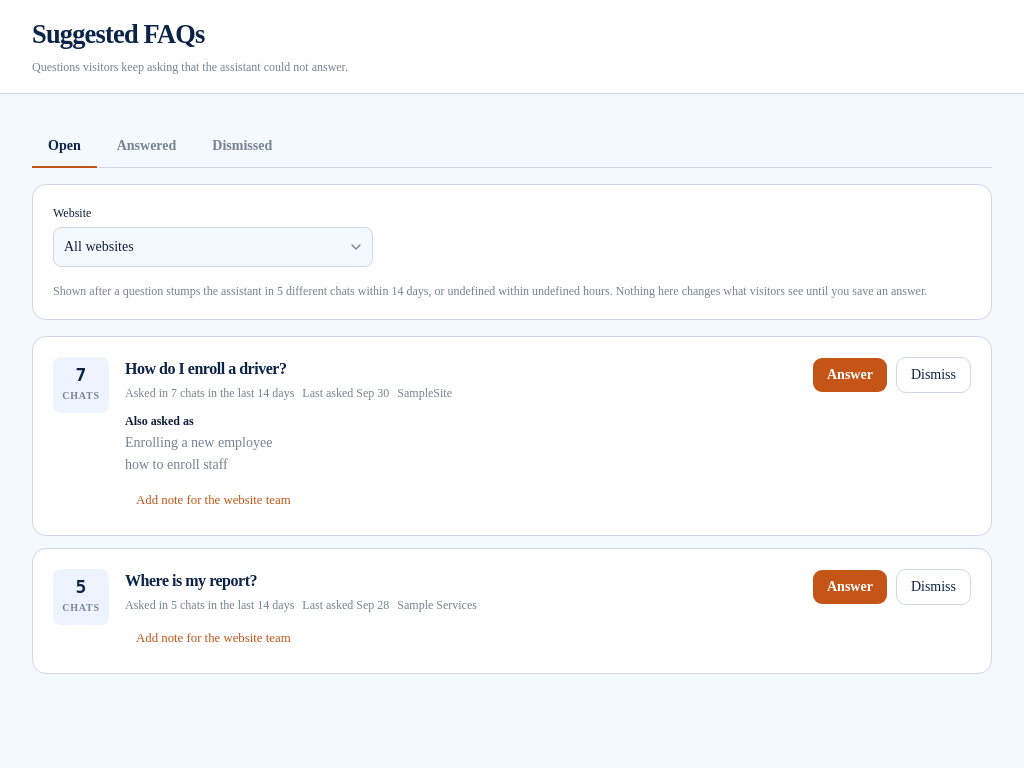
Test: suggested FAQs queue › choosing a website asks the server for that website only
This screenshot has width=1024, height=768.
Expected: the heading "Where is my report?" is shown, 125,569 -> 257,593
Click the dropdown labelled "website".
click(99, 246)  # box 53,227 -> 373,267
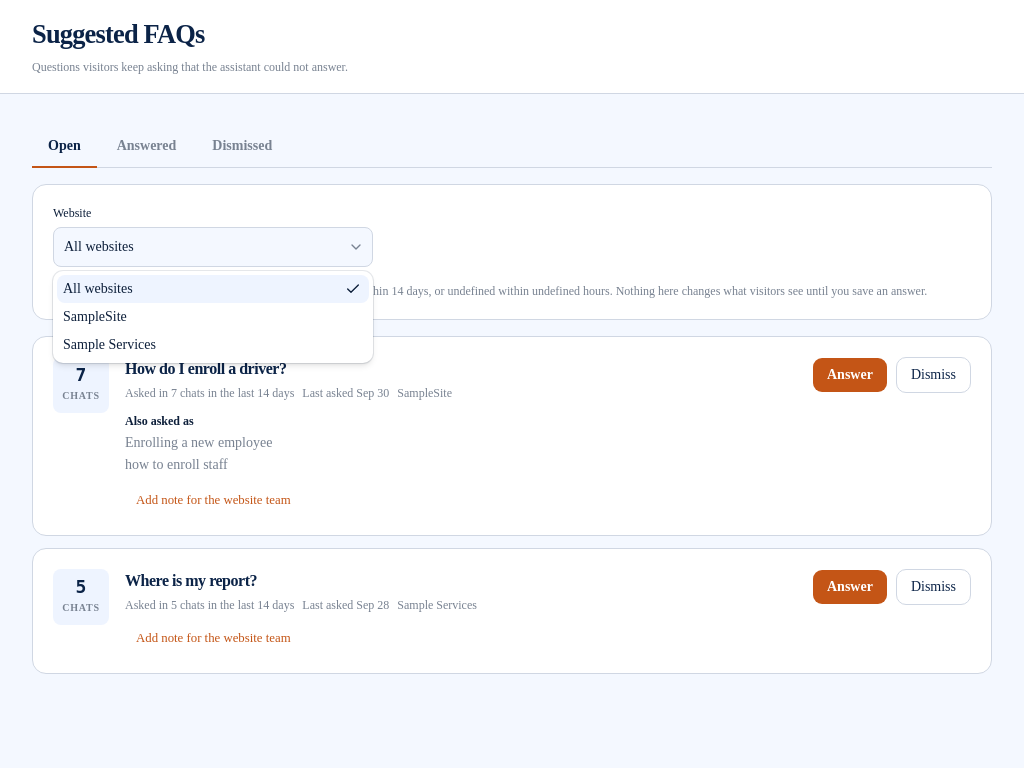
Click the option "SampleSite".
click(95, 316)  # box 63,309 -> 127,324
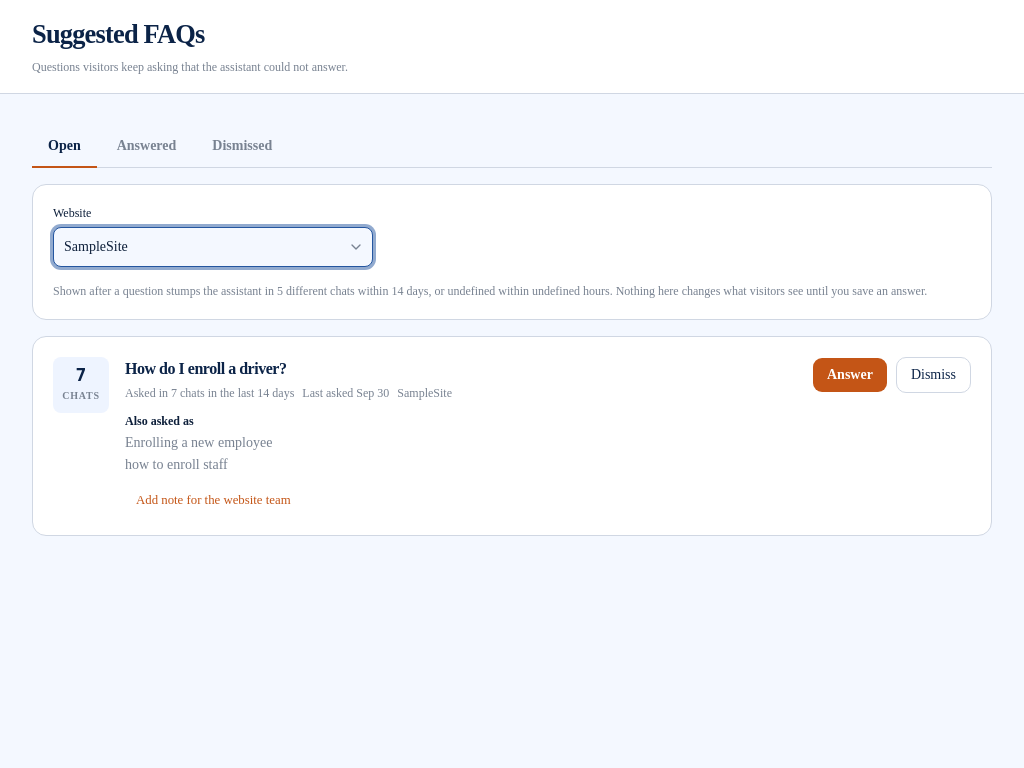
Expected: the heading "How do I enroll a driver?" is shown, 125,357 -> 286,381
Expected: the heading "Where is my report?" is gone
